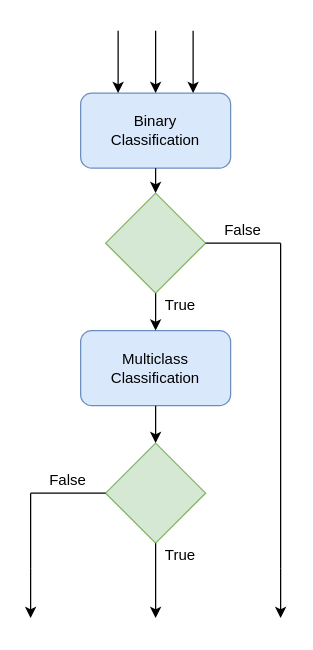
Some shapes in this 313 by 650 pixel diagram are drawn without their labels. The box of each missing label's shape, as (x1, y1, x2, y2) in pixels:
Is it malicious: (104, 192, 206, 293)
Is it Normal: (104, 442, 206, 543)
